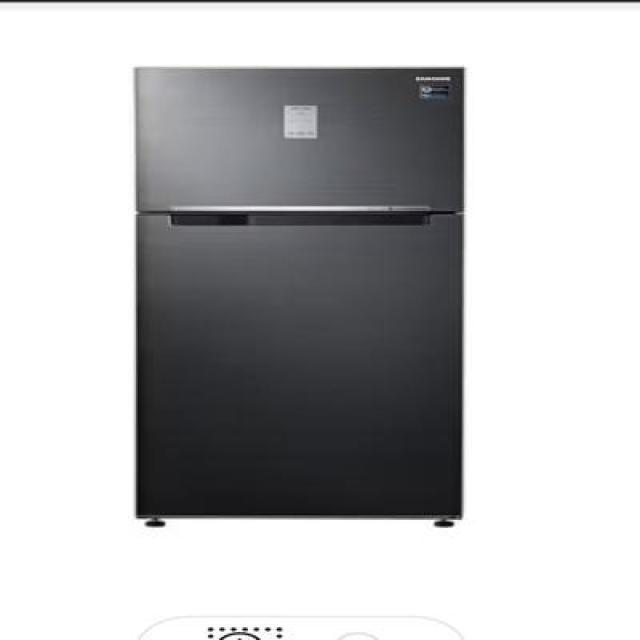refrigerator: (131, 64, 467, 530)
